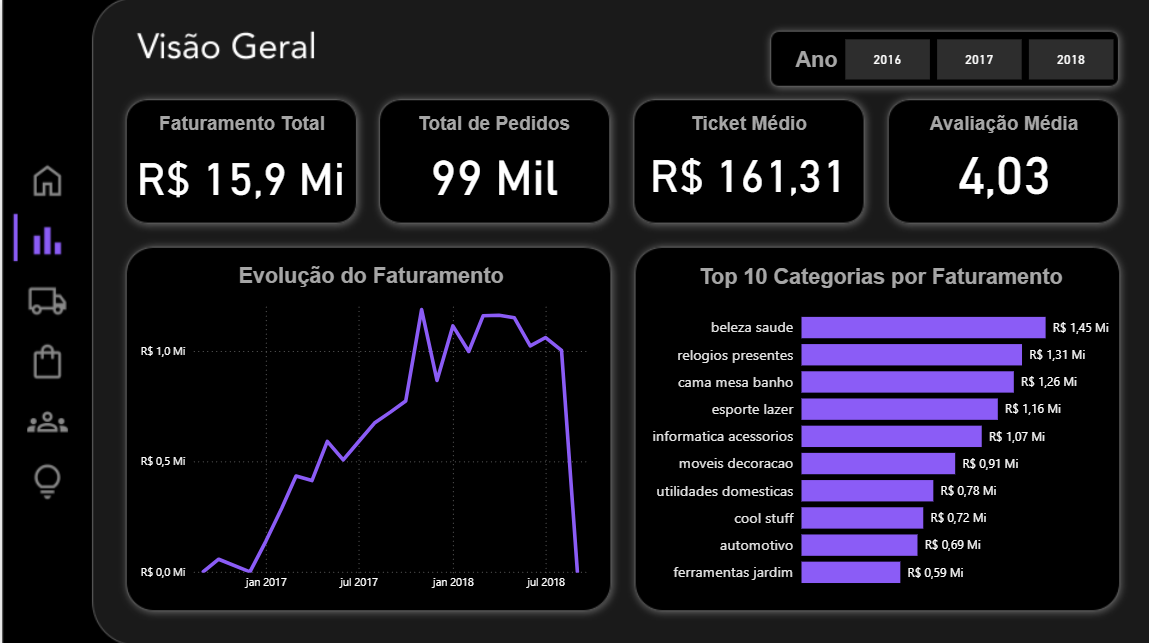

This screenshot's page, from the dashboard's own definition file:
{"tool":"powerbi","page":{"name":"Visão Geral","canvas":[1280,720],"ordinal":1},"visuals":[{"type":"card","fields":{"Values":["Tabela de Medidas.Faturamento Total"]},"box":[98.3,129.8,333.3,125],"z":0},{"type":"card","fields":{"Values":["Tabela de Medidas.Total de Pedidos"]},"box":[410.3,128.1,273.3,125],"z":1000},{"type":"card","fields":{"Values":["Tabela de Medidas.Avaliação Média"]},"box":[976.7,125,273.3,125],"z":2000},{"type":"card","fields":{"Values":["Tabela de Medidas.Ticket Médio"]},"box":[693.7,126.5,271.7,125],"z":3000},{"type":"lineChart","fields":{"Y":["Tabela de Medidas.Faturamento Total"],"Category":["dCalendario.Date.Variation.Hierarquia de datas.Ano","dCalendario.Date.Variation.Hierarquia de datas.Mês"]},"box":[148.3,326.7,516.7,338.3],"z":4000},{"type":"clusteredBarChart","fields":{"Y":["Tabela de Medidas.Faturamento Total"],"Category":["olist vw_pedidos_detalhe.categoria"]},"box":[705,326.7,535,338.3],"z":5000},{"type":"advancedSlicerVisual","fields":{"Values":["dCalendario.Ano"]},"box":[931.7,38.3,308.3,55],"z":6000},{"type":"textbox","box":[123.3,120,286.7,38.3],"z":7000},{"type":"textbox","box":[969.4,120.7,286.7,38.3],"z":8000},{"type":"textbox","box":[403.3,120,286.7,38.3],"z":9000},{"type":"textbox","box":[687,120.7,286.7,38.3],"z":10000},{"type":"textbox","box":[833.3,46.7,143.3,46.7],"z":11000},{"type":"textbox","box":[151.7,286.7,516.7,38.3],"z":12000},{"type":"textbox","box":[718.3,288.3,516.7,38.3],"z":13000},{"type":"actionButton","box":[15,178.8,70,48.8],"z":14000},{"type":"actionButton","box":[15,240,70,51.2],"z":15000},{"type":"actionButton","box":[15,307.5,70,48.8],"z":16000},{"type":"actionButton","box":[15,378.8,70,48.8],"z":17000},{"type":"actionButton","box":[15,447.5,70,48.8],"z":18000},{"type":"actionButton","box":[15,512.5,70,48.8],"z":19000}]}

Visuals, with their boxes on the page's 1280x720 design canvas (x1, y1, x2, y2). These are canvas units, not pixel positions in the 1149x643 screenshot, which may show the page scaled, cropped or inside an application window:
card - Tabela de Medidas.Faturamento Total: box(98, 130, 432, 255)
card - Tabela de Medidas.Total de Pedidos: box(410, 128, 684, 253)
card - Tabela de Medidas.Avaliação Média: box(977, 125, 1250, 250)
card - Tabela de Medidas.Ticket Médio: box(694, 126, 965, 252)
lineChart - Tabela de Medidas.Faturamento Total x dCalendario.Date.Variation.Hierarquia de datas.Ano: box(148, 327, 665, 665)
clusteredBarChart - Tabela de Medidas.Faturamento Total x olist vw_pedidos_detalhe.categoria: box(705, 327, 1240, 665)
advancedSlicerVisual - dCalendario.Ano: box(932, 38, 1240, 93)
textbox: box(123, 120, 410, 158)
textbox: box(969, 121, 1256, 159)
textbox: box(403, 120, 690, 158)
textbox: box(687, 121, 974, 159)
textbox: box(833, 47, 977, 93)
textbox: box(152, 287, 668, 325)
textbox: box(718, 288, 1235, 327)
actionButton: box(15, 179, 85, 228)
actionButton: box(15, 240, 85, 291)
actionButton: box(15, 308, 85, 356)
actionButton: box(15, 379, 85, 428)
actionButton: box(15, 448, 85, 496)
actionButton: box(15, 512, 85, 561)
